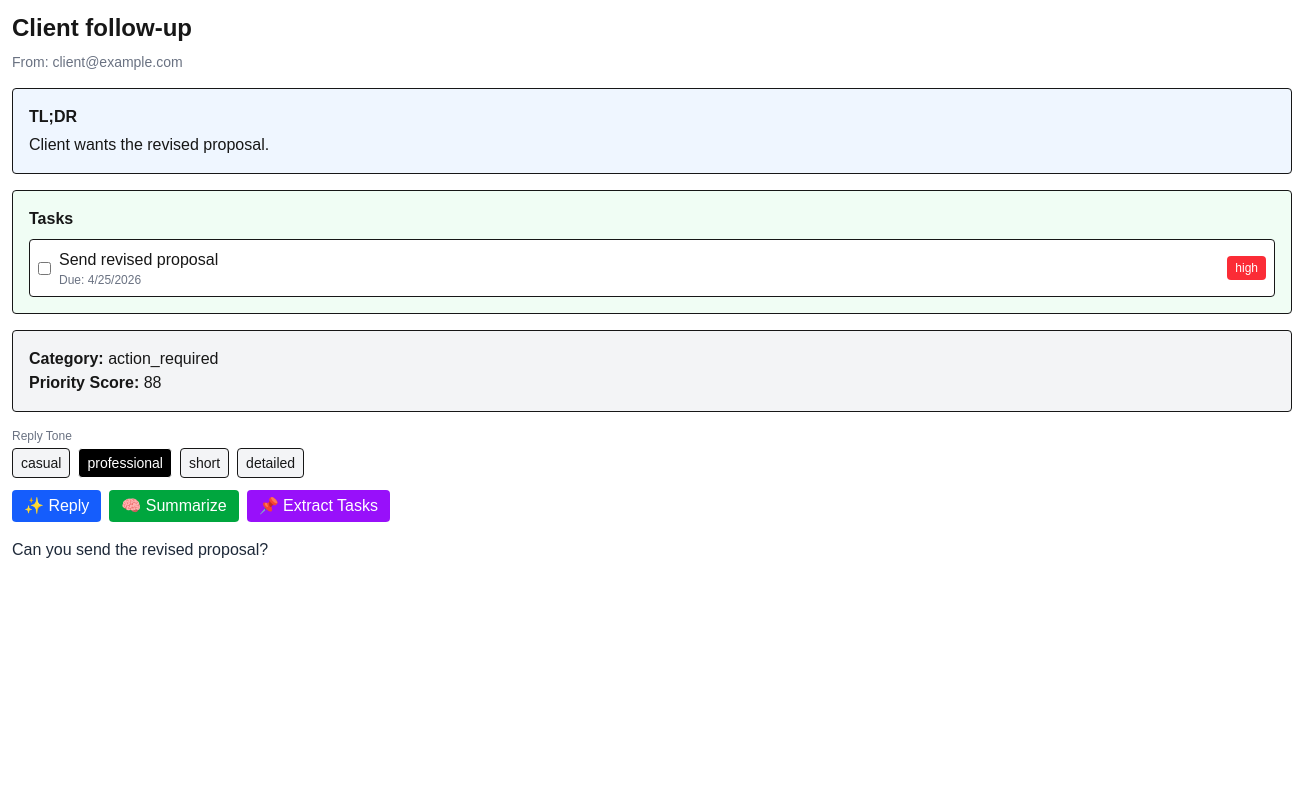
Scenario: EmailDetail › renders a generated reply suggestion
Click the button "✨ Reply": {"x": 57, "y": 506} [12,490,101,522]
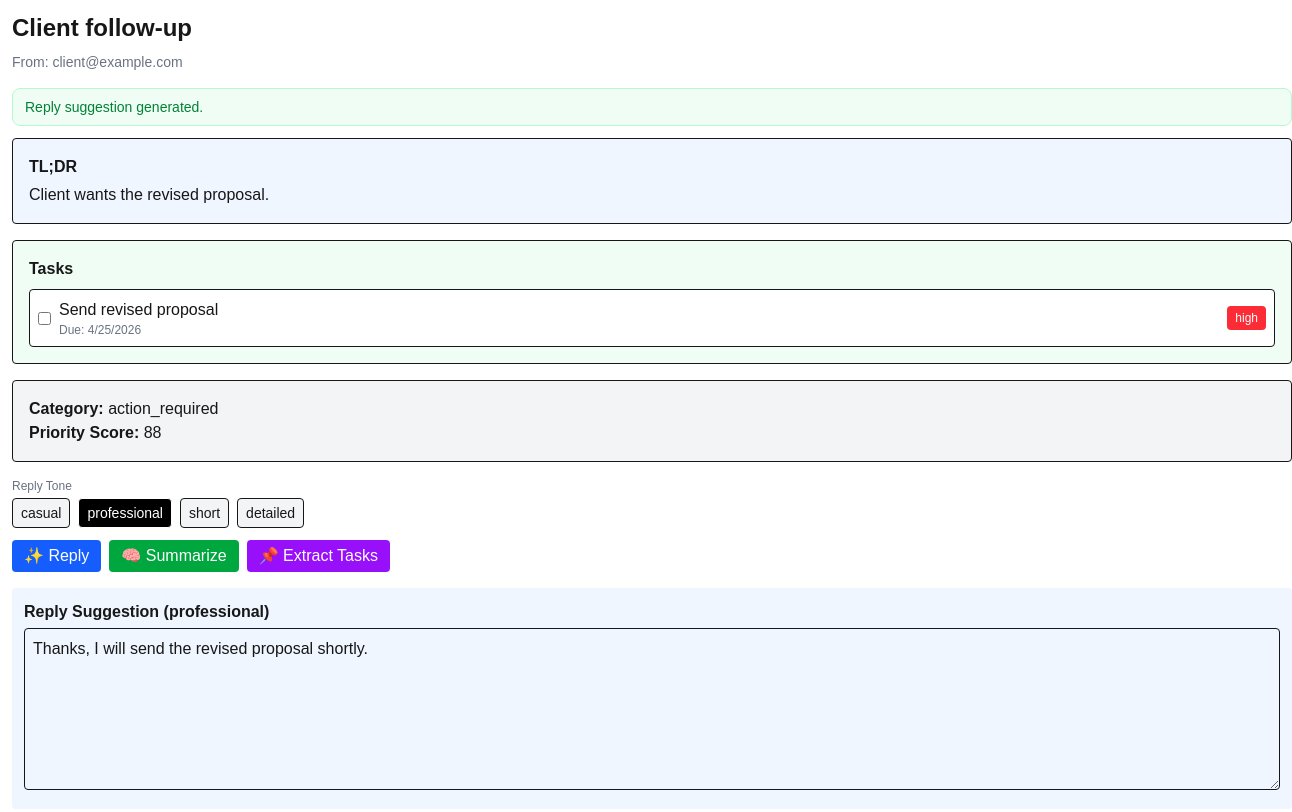
Now the text box showing "Thanks, I will send the revised proposal shortly." is shown, box [24,628,1280,790]
